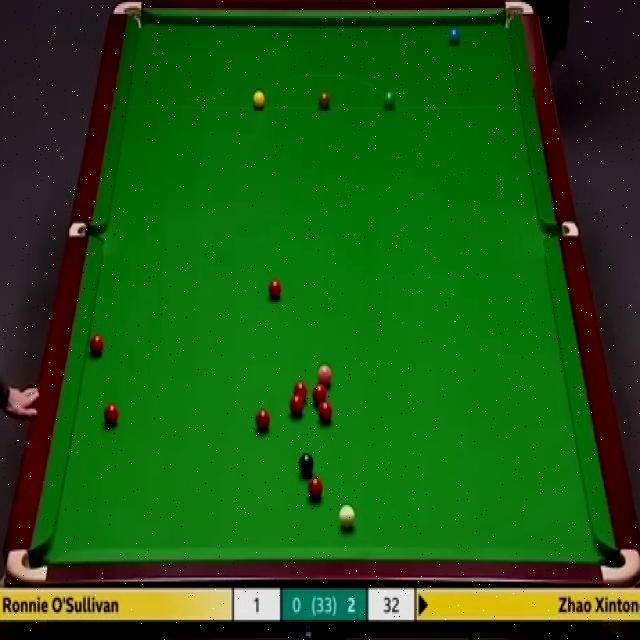black-ball: (299, 451, 316, 480)
blue-ball: (447, 22, 462, 47)
brown-ball: (318, 91, 331, 112)
green-ball: (382, 91, 397, 112)
pink-ball: (314, 363, 333, 387)
red-ball: (103, 402, 120, 429), (308, 477, 325, 501), (267, 278, 284, 302), (288, 395, 304, 419), (88, 333, 103, 358), (256, 408, 270, 434), (318, 401, 333, 424), (292, 381, 308, 402), (312, 385, 328, 404)
white-ball: (339, 505, 356, 533)
yellow-ball: (252, 90, 266, 111)
